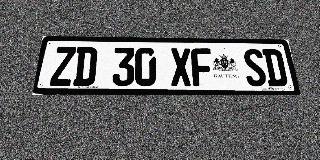0: (134, 48, 156, 86)
3: (112, 47, 135, 86)
D: (72, 47, 98, 86), (262, 49, 289, 86)
F: (191, 48, 214, 86)
S: (242, 49, 268, 86)
X: (170, 48, 192, 86)
Z: (49, 47, 76, 86)
